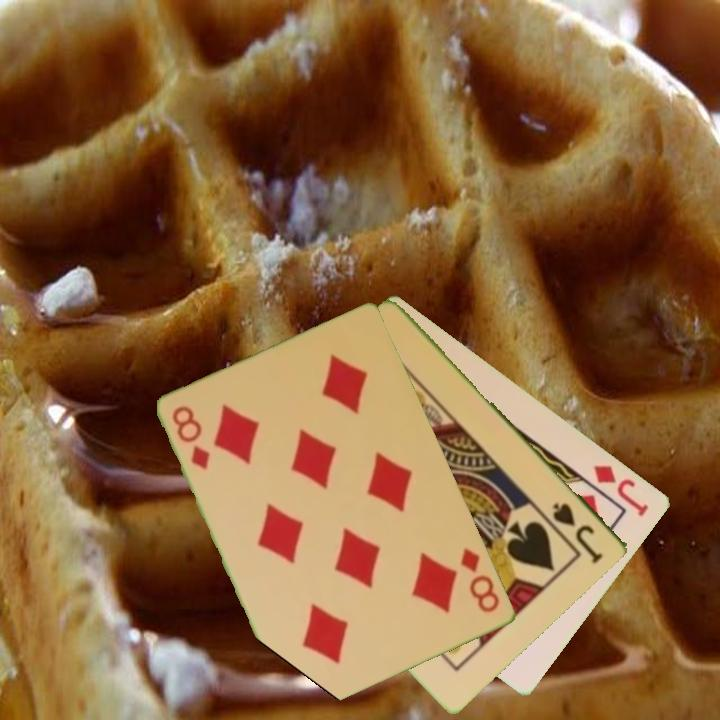8d: (457, 544, 504, 616), (169, 402, 213, 473)
Jd: (590, 461, 653, 520)
Js: (549, 498, 607, 565)
